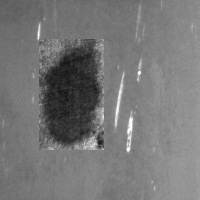patches: (39, 39, 104, 150)
scratches: (111, 58, 142, 153), (32, 15, 47, 43)
